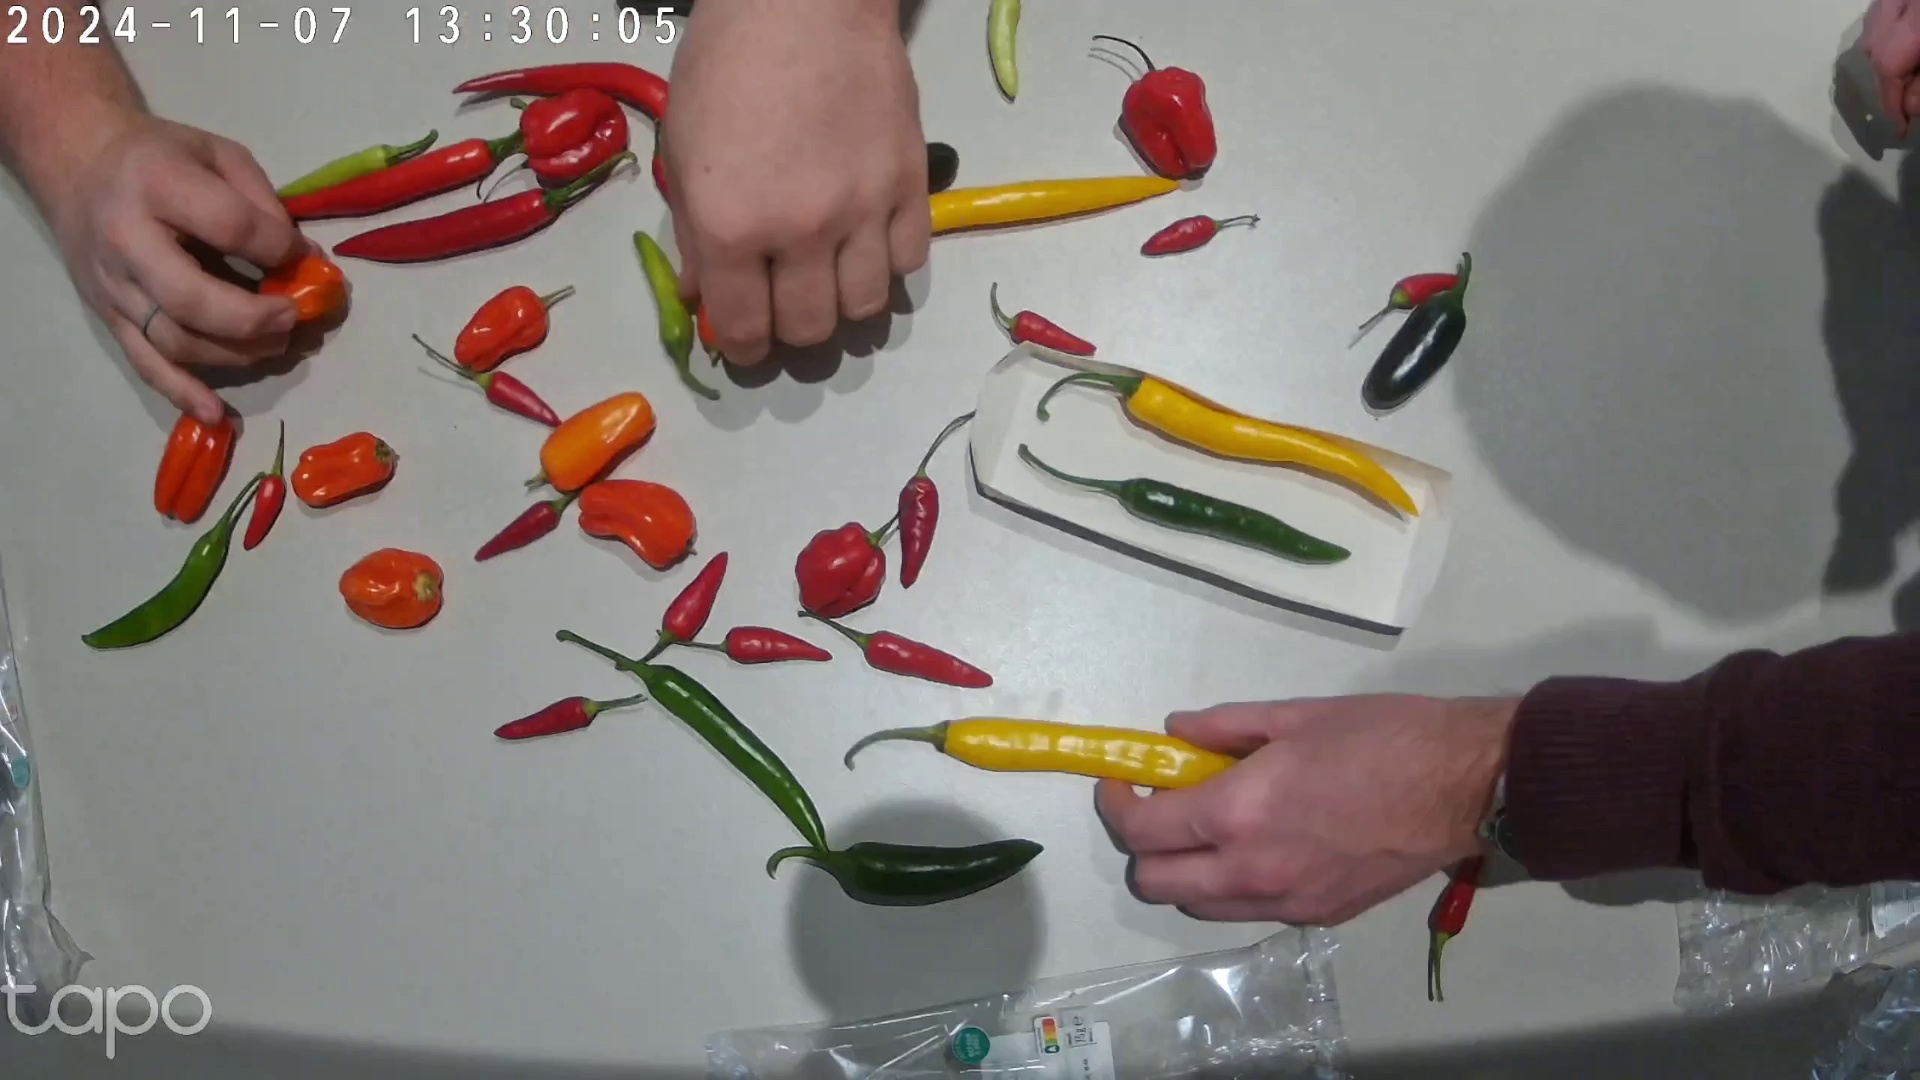Habanero_Pepper_Red: (1091, 35, 1215, 178), (477, 88, 630, 200), (793, 511, 899, 617)
Jalapeno_Green: (763, 839, 1044, 905), (1363, 252, 1473, 411)
Leon_Orange: (526, 393, 657, 492), (454, 285, 576, 372), (578, 481, 697, 568), (338, 549, 444, 629), (290, 432, 398, 510)
Rawit_Green: (633, 231, 720, 401), (274, 130, 438, 197)
Rawit_Red: (797, 611, 992, 688), (411, 332, 561, 428), (898, 410, 977, 589), (615, 550, 728, 671), (1428, 857, 1486, 1001), (991, 282, 1097, 355), (475, 491, 578, 562), (493, 693, 644, 740), (656, 625, 833, 663), (1357, 271, 1460, 333), (243, 420, 286, 551), (1141, 214, 1261, 257)
Spanish_Pepper_Green: (554, 628, 828, 853), (1018, 445, 1352, 564), (80, 471, 265, 651)
Spanish_Pepper_Red: (332, 150, 638, 263), (256, 128, 521, 218)
Spanish_Pepper_Yellow: (1035, 373, 1420, 518), (844, 715, 1241, 791), (931, 177, 1184, 233)
